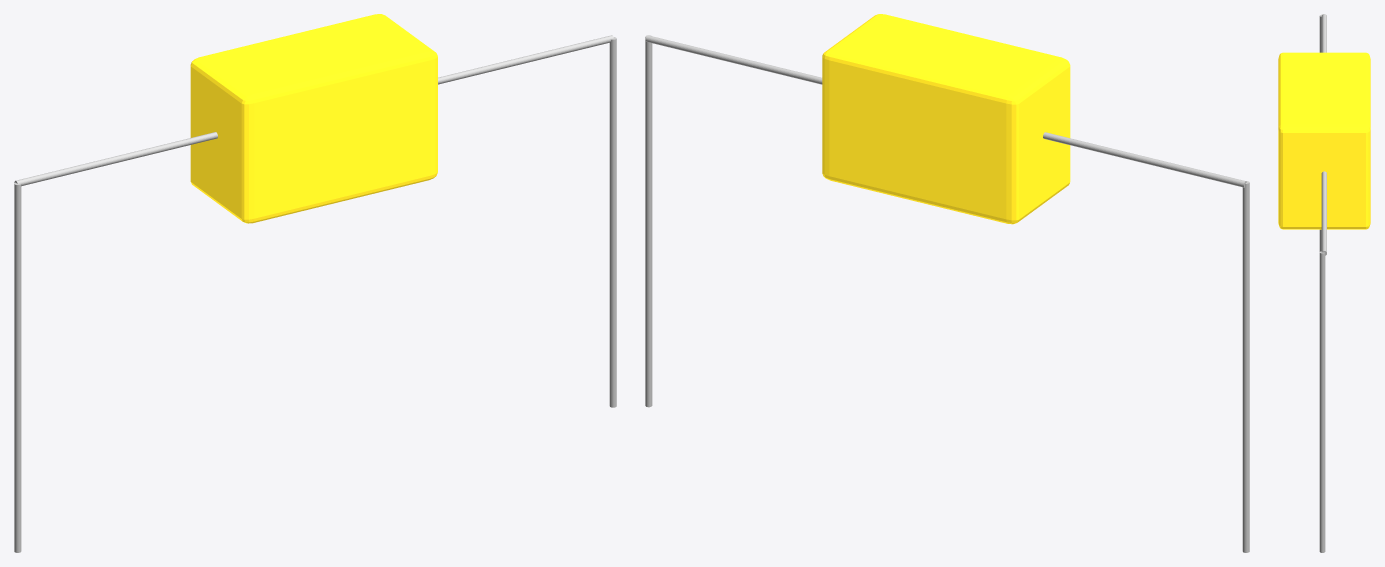
File: Battery.fbx
3 views of the same model, side by side, from view 1: azimuth 30°, elevation 25°; view 2: azimuth 150°, elevation 25°; view 3: azimuth 270°, elevation 25° (orthographic). The views are drawn at different scales.
Visible parts, largest first — view 1: Battery_Body, Wire2, Wire4, Wire1, Wire3; view 2: Battery_Body, Wire2, Wire4, Wire1, Wire3; view 3: Battery_Body, Wire4, Wire3, Wire1, Wire2.
Part boxes in pixels (left/top/right/bottom): Battery_Body: left=190, top=14, right=437, bottom=223; Wire2: left=14, top=182, right=21, bottom=552; Wire4: left=609, top=37, right=616, bottom=407; Wire1: left=14, top=132, right=217, bottom=186; Wire3: left=438, top=35, right=613, bottom=84; Battery_Body: left=822, top=14, right=1070, bottom=224; Wire2: left=1242, top=181, right=1249, bottom=552; Wire4: left=645, top=35, right=652, bottom=407; Wire1: left=1043, top=132, right=1246, bottom=187; Wire3: left=645, top=35, right=822, bottom=84; Battery_Body: left=1278, top=52, right=1370, bottom=229; Wire4: left=1319, top=251, right=1325, bottom=552; Wire3: left=1321, top=171, right=1326, bottom=255; Wire1: left=1321, top=14, right=1326, bottom=52; Wire2: left=1319, top=14, right=1321, bottom=251.
Bounding box in the file's own units: 245 × 165 × 40.01.
